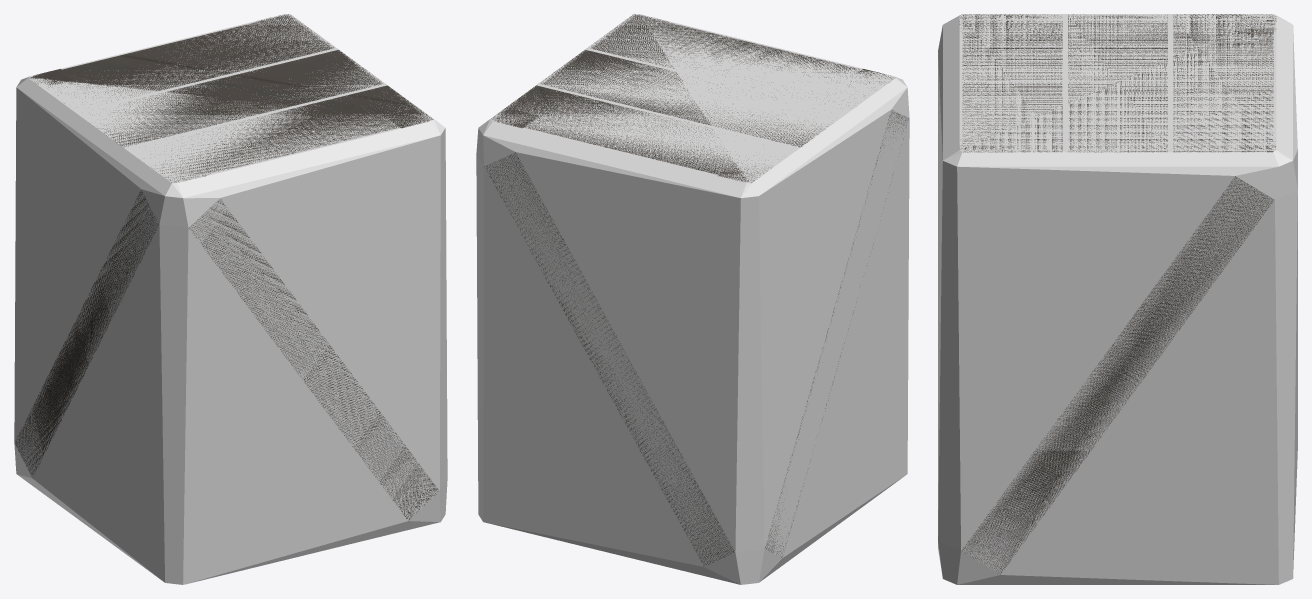
File: crate.webp.glb
3 renders of one model, left to right at view 1: azimuth 30°, elevation 25°; view 2: azimuth 150°, elevation 25°; view 3: azimuth 270°, elevation 25°, orthographic. The views are drawn at different scales.
Parts seen in each view (by area): view 1: COL, LOD0_body; view 2: COL, LOD0_body; view 3: COL, LOD0_body.
Part boxes in pixels (<box>): COL: <box>14,14,447,584</box>; LOD0_body: <box>15,14,438,520</box>; COL: <box>476,14,909,584</box>; LOD0_body: <box>484,14,908,566</box>; COL: <box>938,14,1297,584</box>; LOD0_body: <box>959,14,1276,574</box>.
Bounding box in the file's own units: 0.6783 × 0.9 × 0.6783.
Materials: 1 (1 with a texture image).
